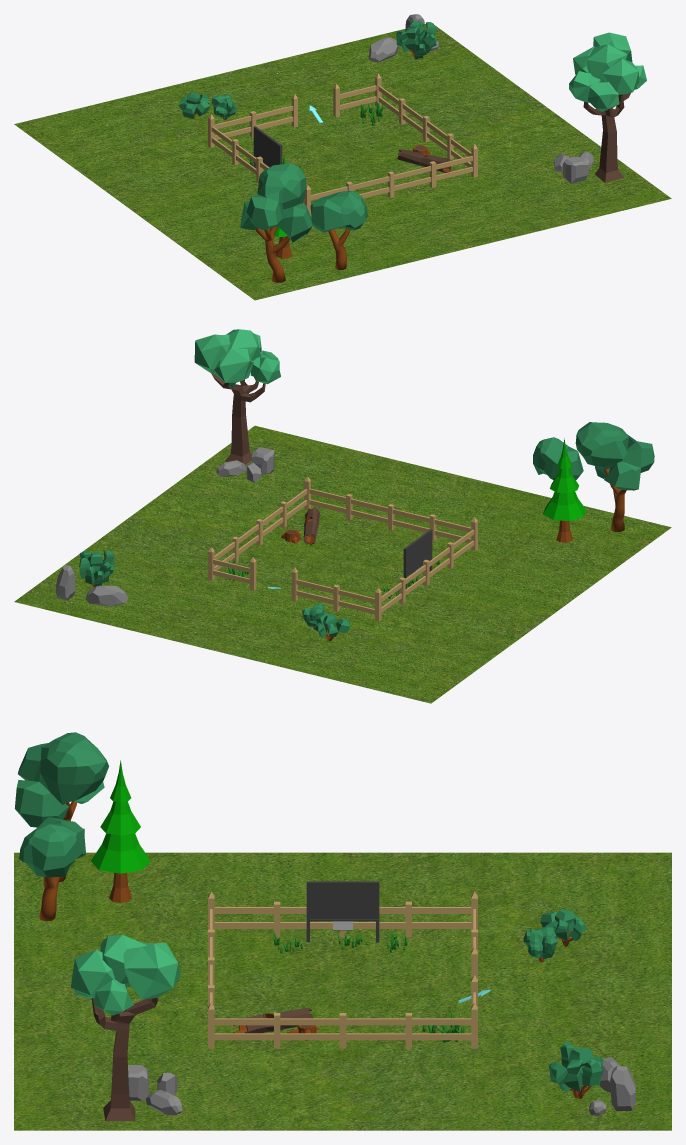
The model's file is region-0.glb.
3 renders of one model, top to bottom at view 1: azimuth 30°, elevation 25°; view 2: azimuth 150°, elevation 25°; view 3: azimuth 270°, elevation 25°, orthographic. The views are drawn at different scales.
Parts seen in each view (by area): view 1: base, low-poly-tree-5, deciduous-tree-2, deciduous-tree-1, fence-mid-piece-x3.003, fence-mid-piece-x3.002, bush-1, info-board-assembly-large, fence-mid-piece-x3.001, bush-2, rock-6, log-1 (+7 smaller); view 2: base, low-poly-tree-5, deciduous-tree-2, spruce-tree-1, fence-mid-piece-x3.003, deciduous-tree-1, fence-mid-piece-x3.001, fence-mid-piece-x3.002, bush-1, info-board-assembly-large, rock-4.001, bush-2 (+3 smaller); view 3: base, low-poly-tree-5, deciduous-tree-2, deciduous-tree-1, fence-mid-piece-x3.002, spruce-tree-1, info-board-assembly-large, fence-mid-piece-x3.001, bush-1, bush-2, rock-2, bush-3 (+7 smaller).
Part boxes in pixels (<box>): base: <box>14,24,671,300</box>; low-poly-tree-5: <box>569,32,646,182</box>; deciduous-tree-2: <box>240,163,312,282</box>; deciduous-tree-1: <box>310,191,368,269</box>; fence-mid-piece-x3.003: <box>328,160,454,198</box>; fence-mid-piece-x3.002: <box>389,94,462,159</box>; bush-1: <box>396,20,436,59</box>; info-board-assembly-large: <box>253,126,282,168</box>; fence-mid-piece-x3.001: <box>222,134,269,182</box>; bush-2: <box>178,91,210,118</box>; rock-6: <box>562,156,588,183</box>; log-1: <box>397,149,451,172</box>; base: <box>14,425,671,703</box>; low-poly-tree-5: <box>194,329,280,464</box>; deciduous-tree-2: <box>575,422,654,531</box>; spruce-tree-1: <box>543,438,585,542</box>; fence-mid-piece-x3.003: <box>328,493,453,540</box>; deciduous-tree-1: <box>533,437,583,480</box>; fence-mid-piece-x3.001: <box>390,537,463,605</box>; fence-mid-piece-x3.002: <box>223,497,296,563</box>; bush-1: <box>79,550,114,587</box>; info-board-assembly-large: <box>403,529,432,589</box>; rock-4.001: <box>86,585,127,606</box>; bush-2: <box>315,613,350,641</box>; base: <box>14,852,671,1130</box>; low-poly-tree-5: <box>70,935,180,1121</box>; deciduous-tree-2: <box>15,732,108,882</box>; deciduous-tree-1: <box>19,817,85,921</box>; fence-mid-piece-x3.002: <box>244,1013,441,1048</box>; spruce-tree-1: <box>91,760,150,902</box>; info-board-assembly-large: <box>306,881,379,942</box>; fence-mid-piece-x3.001: <box>244,901,441,937</box>; bush-1: <box>549,1041,603,1098</box>; bush-2: <box>540,909,587,946</box>; rock-2: <box>610,1065,635,1110</box>; bush-3: <box>523,926,557,962</box>.
Bounding box in the file's own units: 20.38 × 6.13 × 20.
Materials: 35 (1 with a texture image).
